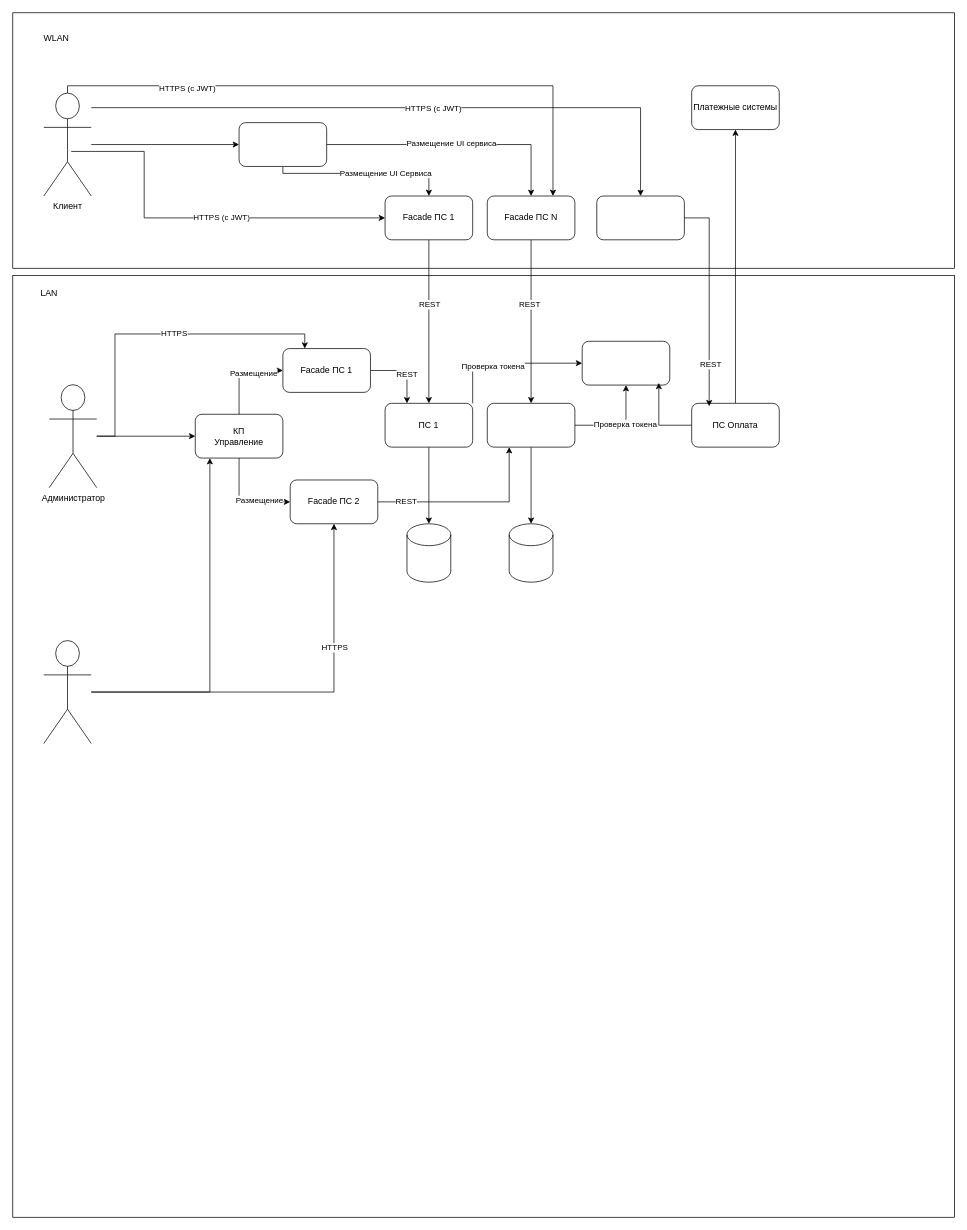
This 967x1230 diagram has some shape labels left out. Here are the shapes that lost their labels. From the top down, the centre of each, then its label:
point 282,144: КП Портал электронной площадки
point 640,217: Facade ПС Оплата
point 625,363: ПС Аутентификации
point 531,425: ПС N
point 67,692: Специалист поддержки
